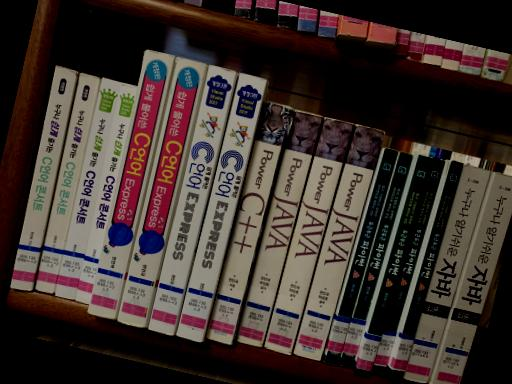book-spine: (175, 72, 266, 342), (86, 49, 175, 320), (118, 57, 206, 328), (148, 65, 236, 335), (204, 101, 293, 345), (292, 125, 384, 361), (263, 116, 352, 355), (235, 110, 322, 347), (403, 163, 490, 384), (430, 172, 512, 384), (355, 153, 432, 376), (338, 151, 413, 368), (371, 157, 445, 374), (324, 148, 397, 365), (390, 160, 462, 380), (8, 66, 77, 291), (52, 77, 121, 300), (34, 73, 100, 294), (74, 82, 137, 304)
